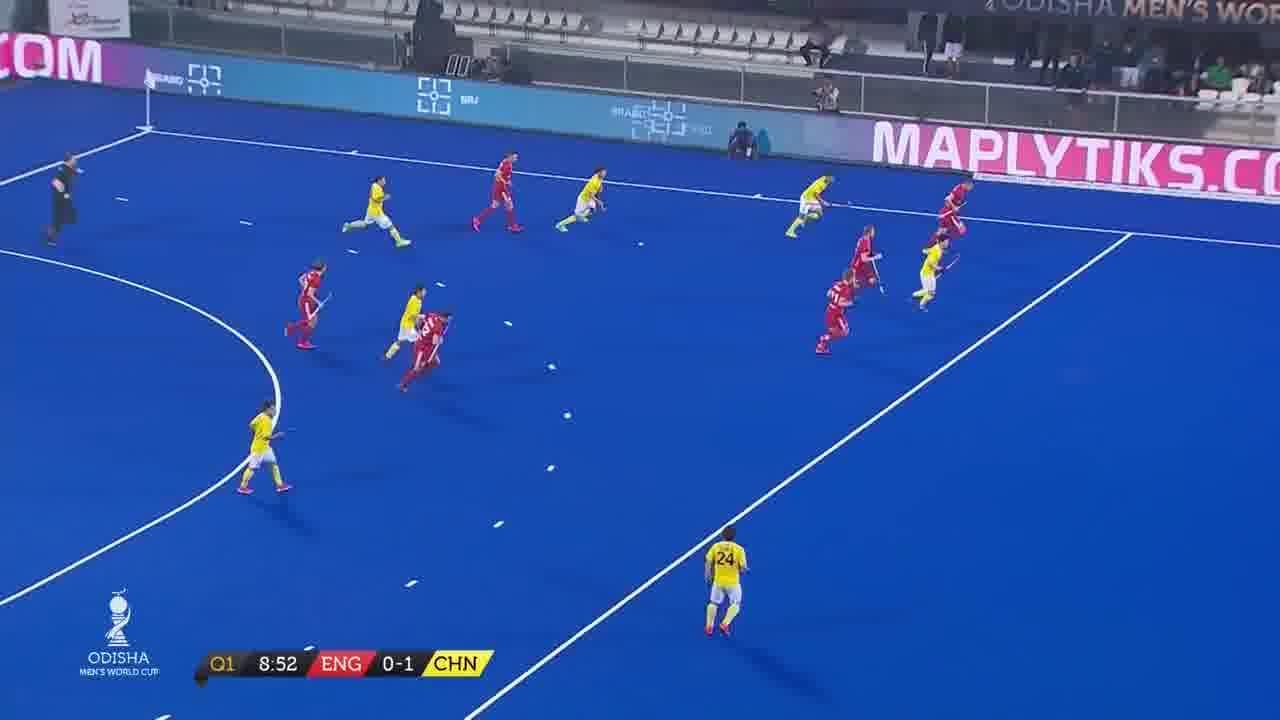ball: (634, 237, 647, 251)
